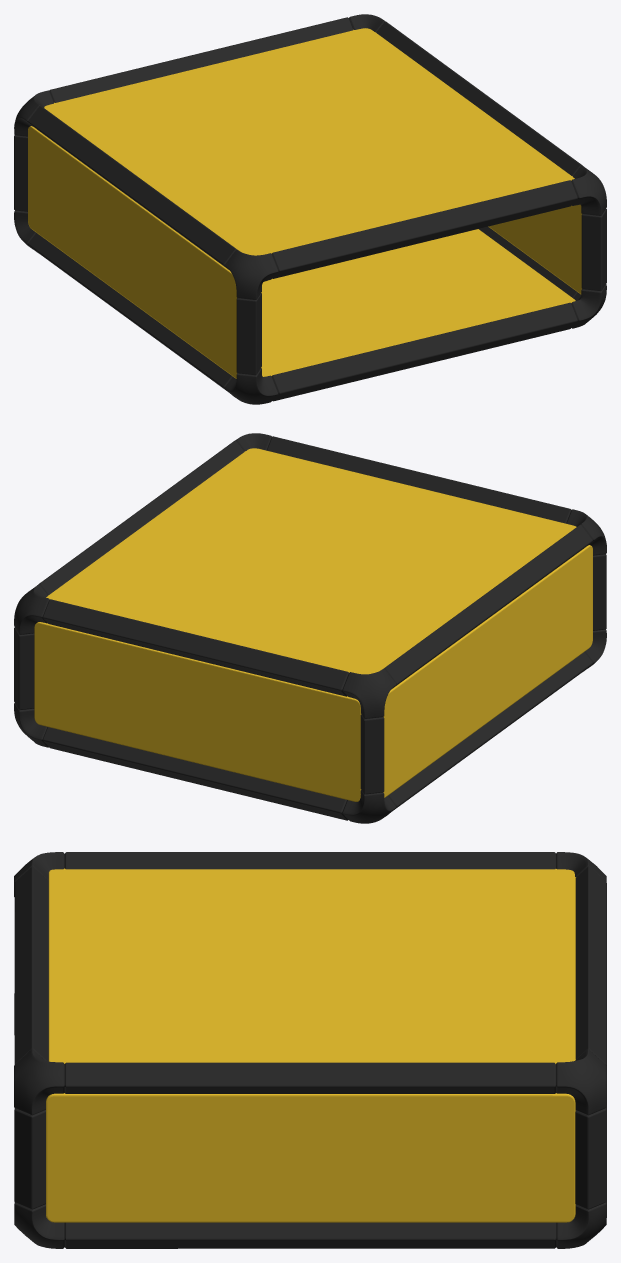
3 views of the same model, one above another, from view 1: azimuth 30°, elevation 25°; view 2: azimuth 150°, elevation 25°; view 3: azimuth 270°, elevation 25° (orthographic). The views are drawn at different scales.
Parts seen in each view (by area): view 1: 329x374x79; view 2: 329x374x79; view 3: 329x374x79.
Boxes of the visible parts, x1,y1,x2,y2 form: 329x374x79: (14,14,606,404); 329x374x79: (14,433,606,823); 329x374x79: (14,852,606,1248).
Bounding box in the file's own units: 0.4068 × 0.1568 × 0.4513.
